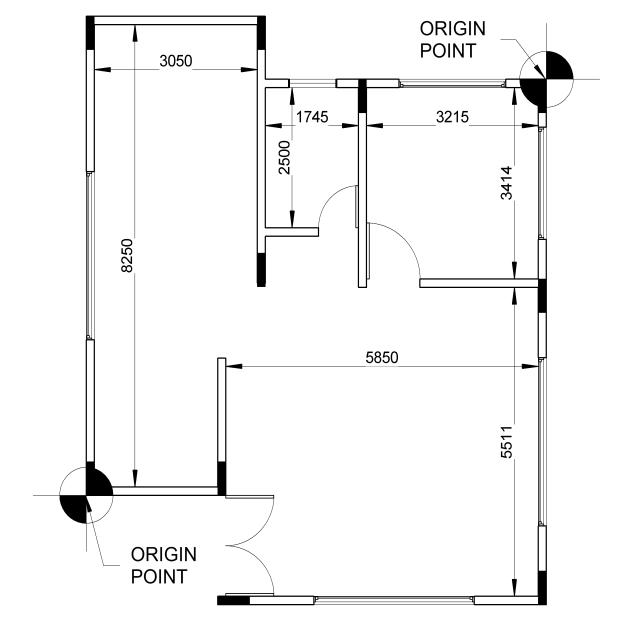Column: (86, 461, 95, 496), (86, 15, 95, 50), (538, 571, 547, 605), (538, 279, 547, 313), (538, 79, 547, 113), (358, 79, 367, 113), (257, 16, 266, 50), (257, 253, 266, 287), (217, 596, 250, 605), (218, 461, 226, 496), (95, 486, 113, 496), (520, 79, 538, 88)
Door: (366, 222, 420, 288), (318, 185, 359, 237)
Double-Door: (217, 496, 274, 596)
Window: (538, 357, 547, 527), (86, 171, 95, 340), (313, 596, 475, 605), (538, 126, 547, 240), (398, 79, 506, 88), (288, 79, 337, 88)
